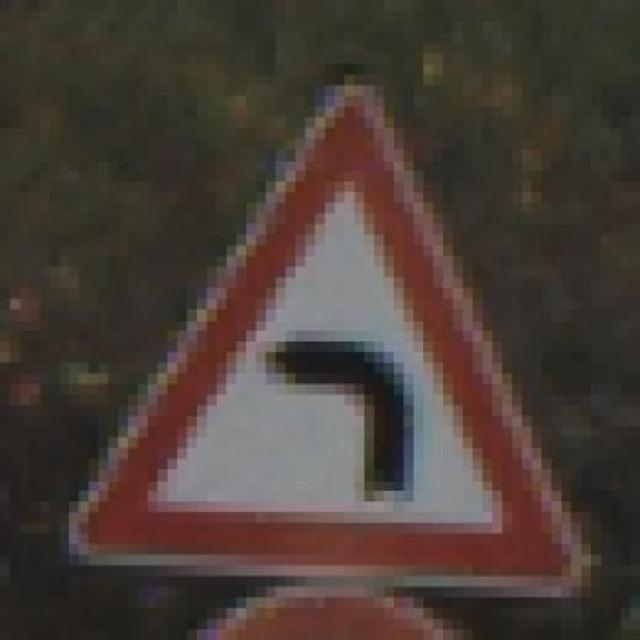Dangerous Left Curve Ahead: (49, 86, 611, 608)
